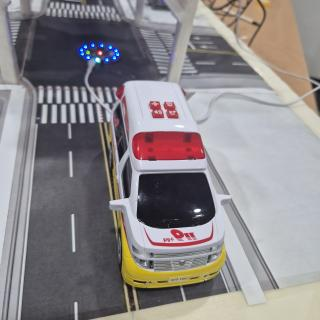Ambulance: (109, 81, 231, 288)
